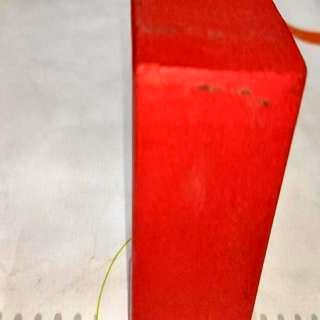redbox: (132, 0, 308, 320)
